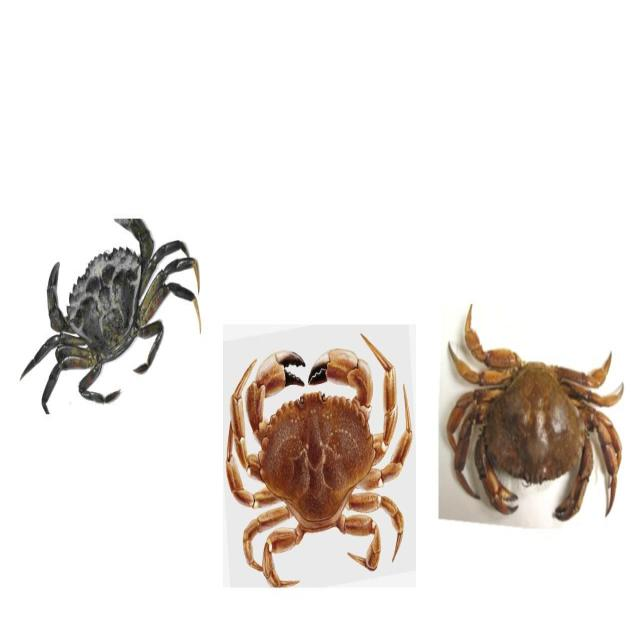egc: (20, 217, 202, 418)
